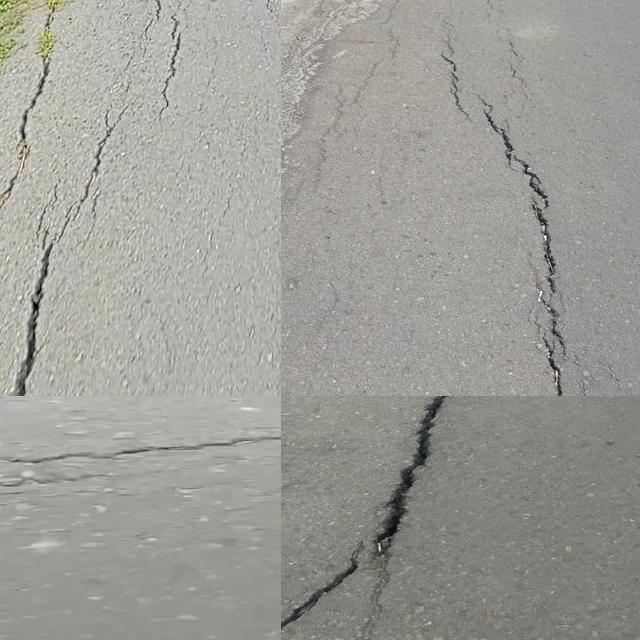Melintang: (0, 426, 281, 490)
Memanjang: (429, 38, 590, 396), (281, 396, 465, 640), (0, 110, 140, 396)
